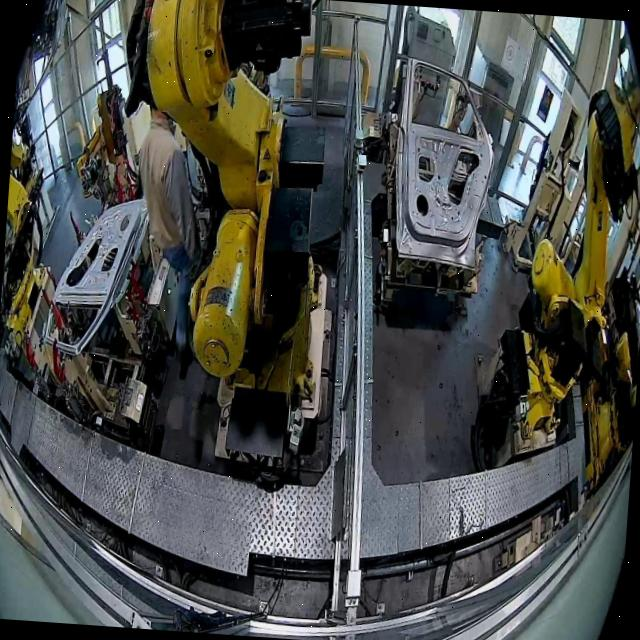Person: (122, 100, 212, 380)
